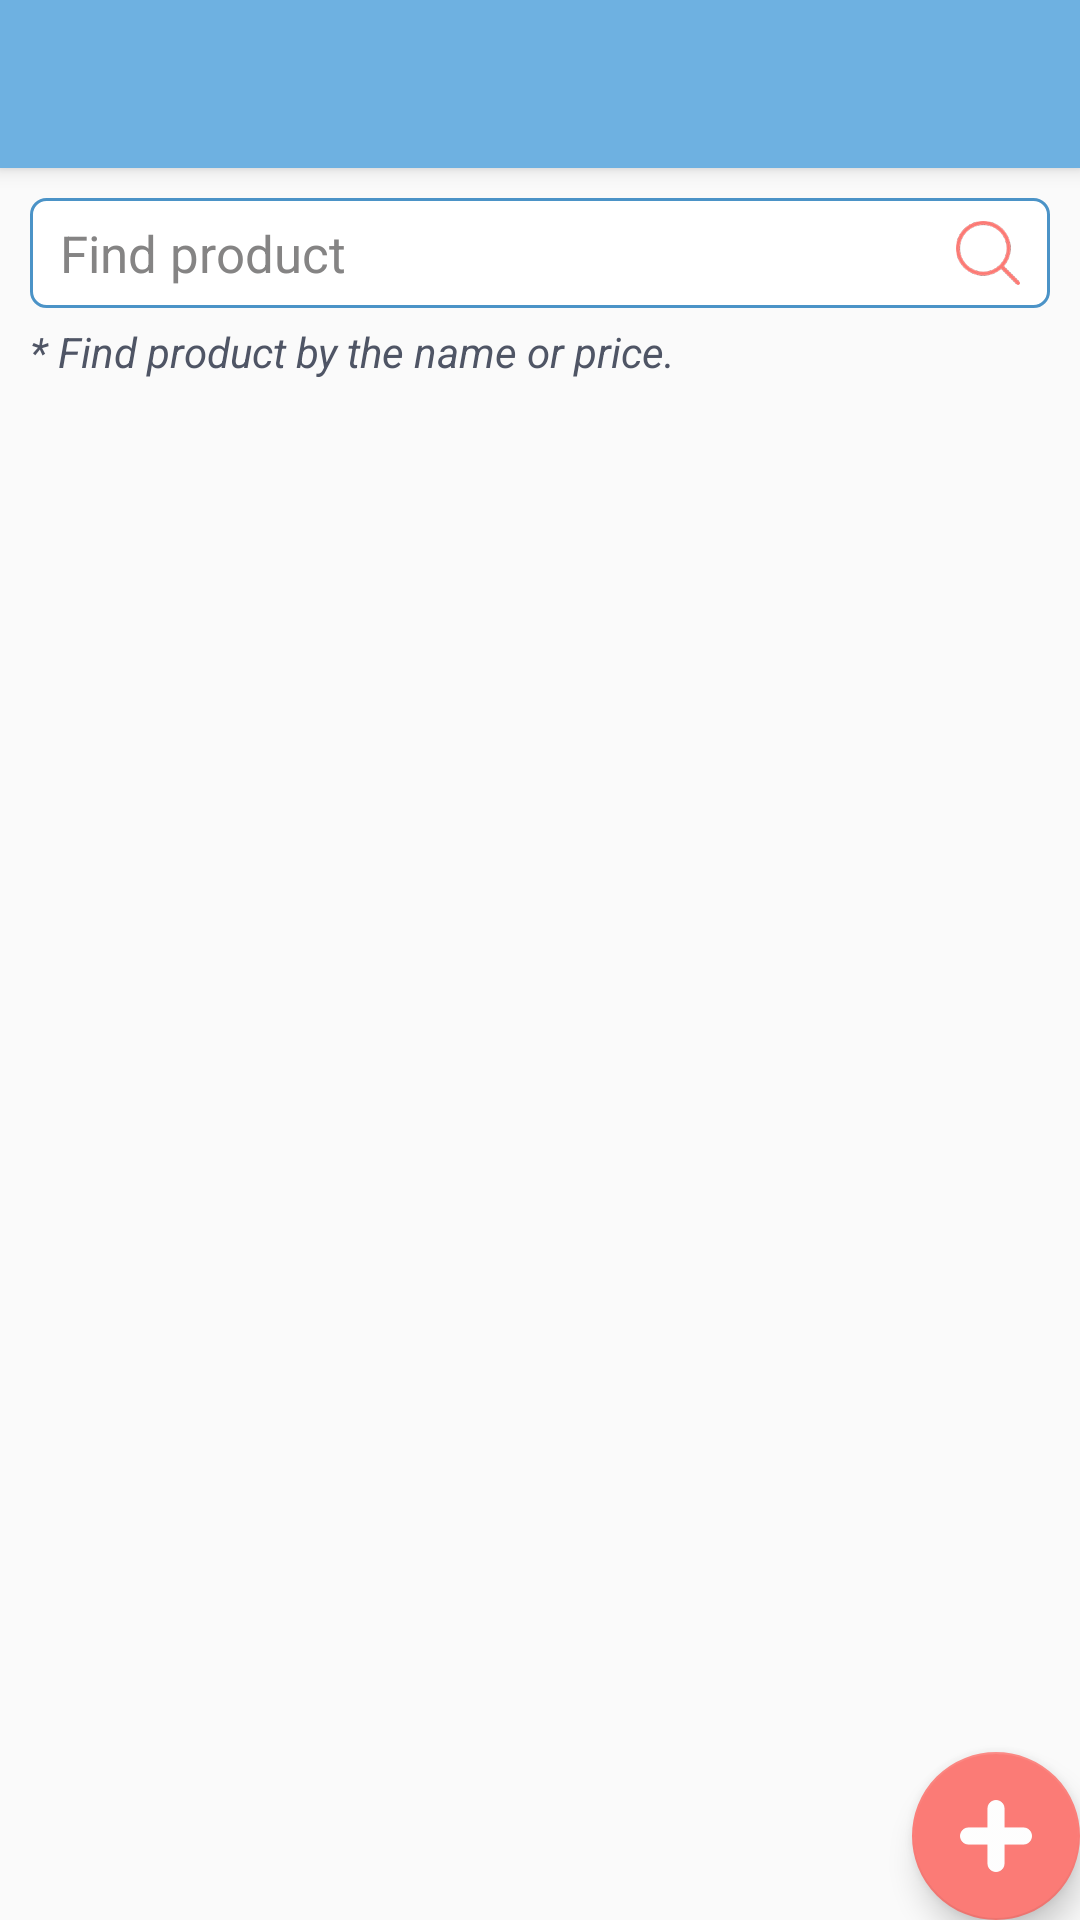

Where to tap for icons on this 1080 × 1920 app screen, as (x=x, y=y):
add: (x=996, y=1836)
magnifying: (x=988, y=253)
